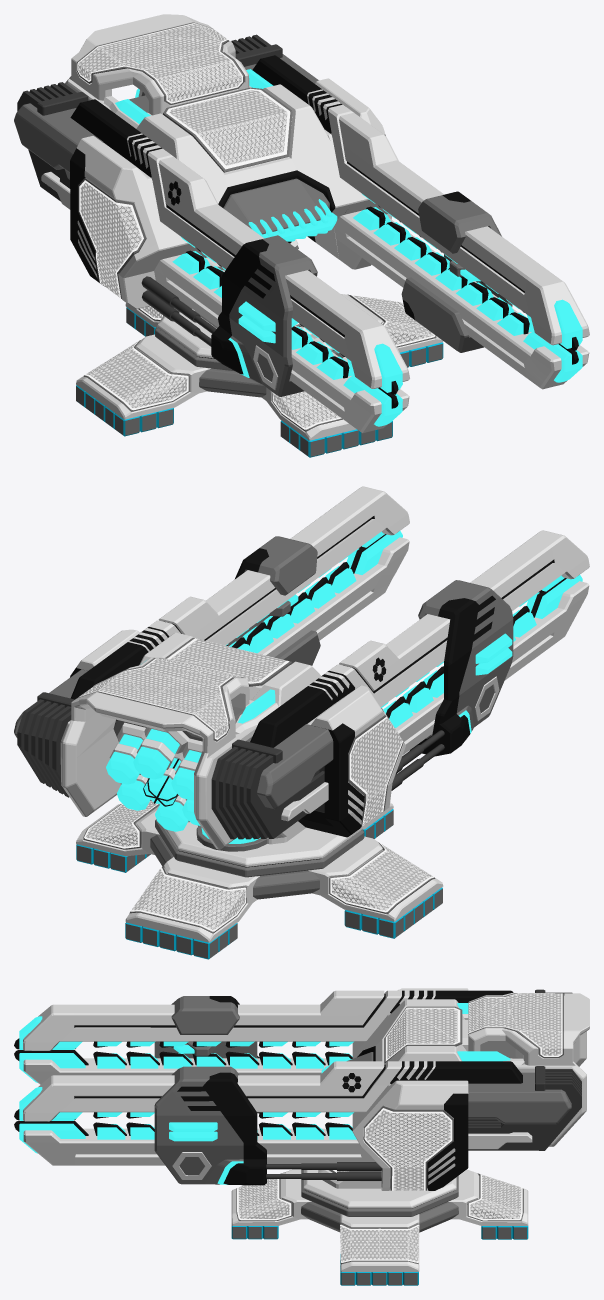
3 views of the same model, one above another, from view 1: azimuth 30°, elevation 25°; view 2: azimuth 150°, elevation 25°; view 3: azimuth 270°, elevation 25° (orthographic). The views are drawn at different scales.
Parts seen in each view (by area): view 1: polySurface669_shell_0, polySurface673_shell_0, polySurface671_shell_0, polySurface675_shell_0, polySurface402_shell_0, polySurface598_shield_0, polySurface396_shell_0, polySurface586_shield_0, polySurface397_shell_0, polySurface581_shield_0, polySurface677_shell_0, polySurface401_shell_0 (+18 smaller); view 2: polySurface669_shell_0, polySurface673_shell_0, polySurface397_shell_0, polySurface679_grayMetalq_0, polySurface396_shell_0, polySurface671_shell_0, polySurface675_shell_0, polySurface350_shell_0, polySurface598_shield_0, polySurface677_shell_0, polySurface594_shield_0, polySurface588_shield_0 (+16 smaller); view 3: polySurface669_shell_0, polySurface673_shell_0, polySurface671_shell_0, polySurface396_shell_0, polySurface675_shell_0, polySurface637_shield_0, polySurface397_shell_0, polySurface350_shell_0, polySurface598_shield_0, polySurface677_shell_0, polySurface679_grayMetalq_0, polySurface592_shield_0 (+24 smaller).
Part boxes in pixels (box(x1,y1,x2,y2)): polySurface669_shell_0: box(70, 55, 589, 388); polySurface673_shell_0: box(211, 191, 512, 396); polySurface671_shell_0: box(154, 210, 589, 433); polySurface675_shell_0: box(70, 78, 391, 309); polySurface402_shell_0: box(136, 84, 352, 257); polySurface598_shield_0: box(78, 23, 241, 101); polySurface396_shell_0: box(76, 294, 443, 440); polySurface586_shield_0: box(169, 90, 287, 165); polySurface397_shell_0: box(65, 14, 251, 128); polySurface581_shield_0: box(80, 182, 141, 297); polySurface677_shell_0: box(14, 54, 318, 172); polySurface401_shell_0: box(223, 178, 329, 234); polySurface669_shell_0: box(70, 486, 589, 747); polySurface673_shell_0: box(226, 536, 513, 756); polySurface397_shell_0: box(60, 657, 278, 849); polySurface679_grayMetalq_0: box(17, 692, 324, 839); polySurface396_shell_0: box(76, 802, 443, 942); polySurface671_shell_0: box(257, 537, 589, 754); polySurface675_shell_0: box(70, 629, 405, 837); polySurface350_shell_0: box(155, 819, 364, 877); polySurface598_shield_0: box(79, 658, 239, 738); polySurface677_shell_0: box(14, 669, 333, 809); polySurface594_shield_0: box(132, 869, 245, 929); polySurface588_shield_0: box(331, 844, 432, 910); polySurface669_shell_0: box(23, 990, 522, 1121); polySurface673_shell_0: box(154, 996, 266, 1185); polySurface671_shell_0: box(23, 1058, 381, 1181); polySurface396_shell_0: box(231, 1169, 528, 1271); polySurface675_shell_0: box(352, 988, 468, 1190); polySurface637_shield_0: box(365, 1110, 450, 1190); polySurface397_shell_0: box(462, 993, 589, 1146); polySurface350_shell_0: box(301, 1170, 458, 1216); polySurface598_shield_0: box(468, 993, 561, 1055); polySurface677_shell_0: box(468, 1072, 571, 1124); polySurface679_grayMetalq_0: box(468, 989, 581, 1150); polySurface592_shield_0: box(340, 1226, 419, 1261).
Bounding box in the file's own units: 18.9 × 14.86 × 36.67.
Materials: 5 (2 with a texture image).
